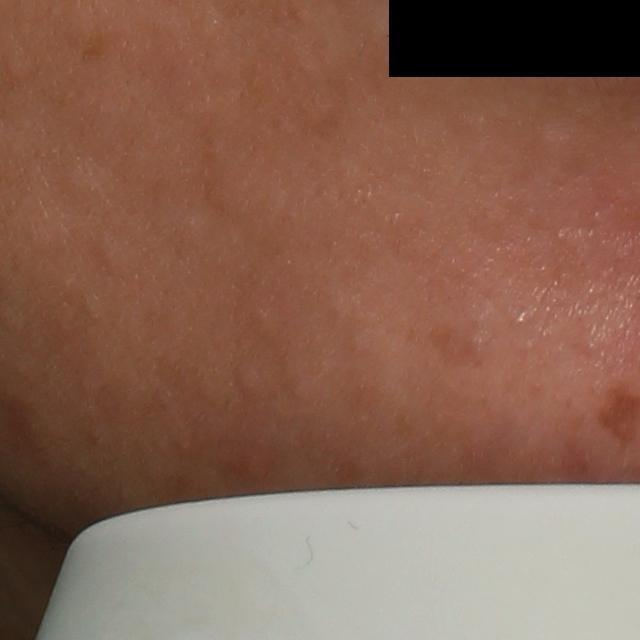comedo: (59, 160, 102, 208), (230, 359, 262, 395)
